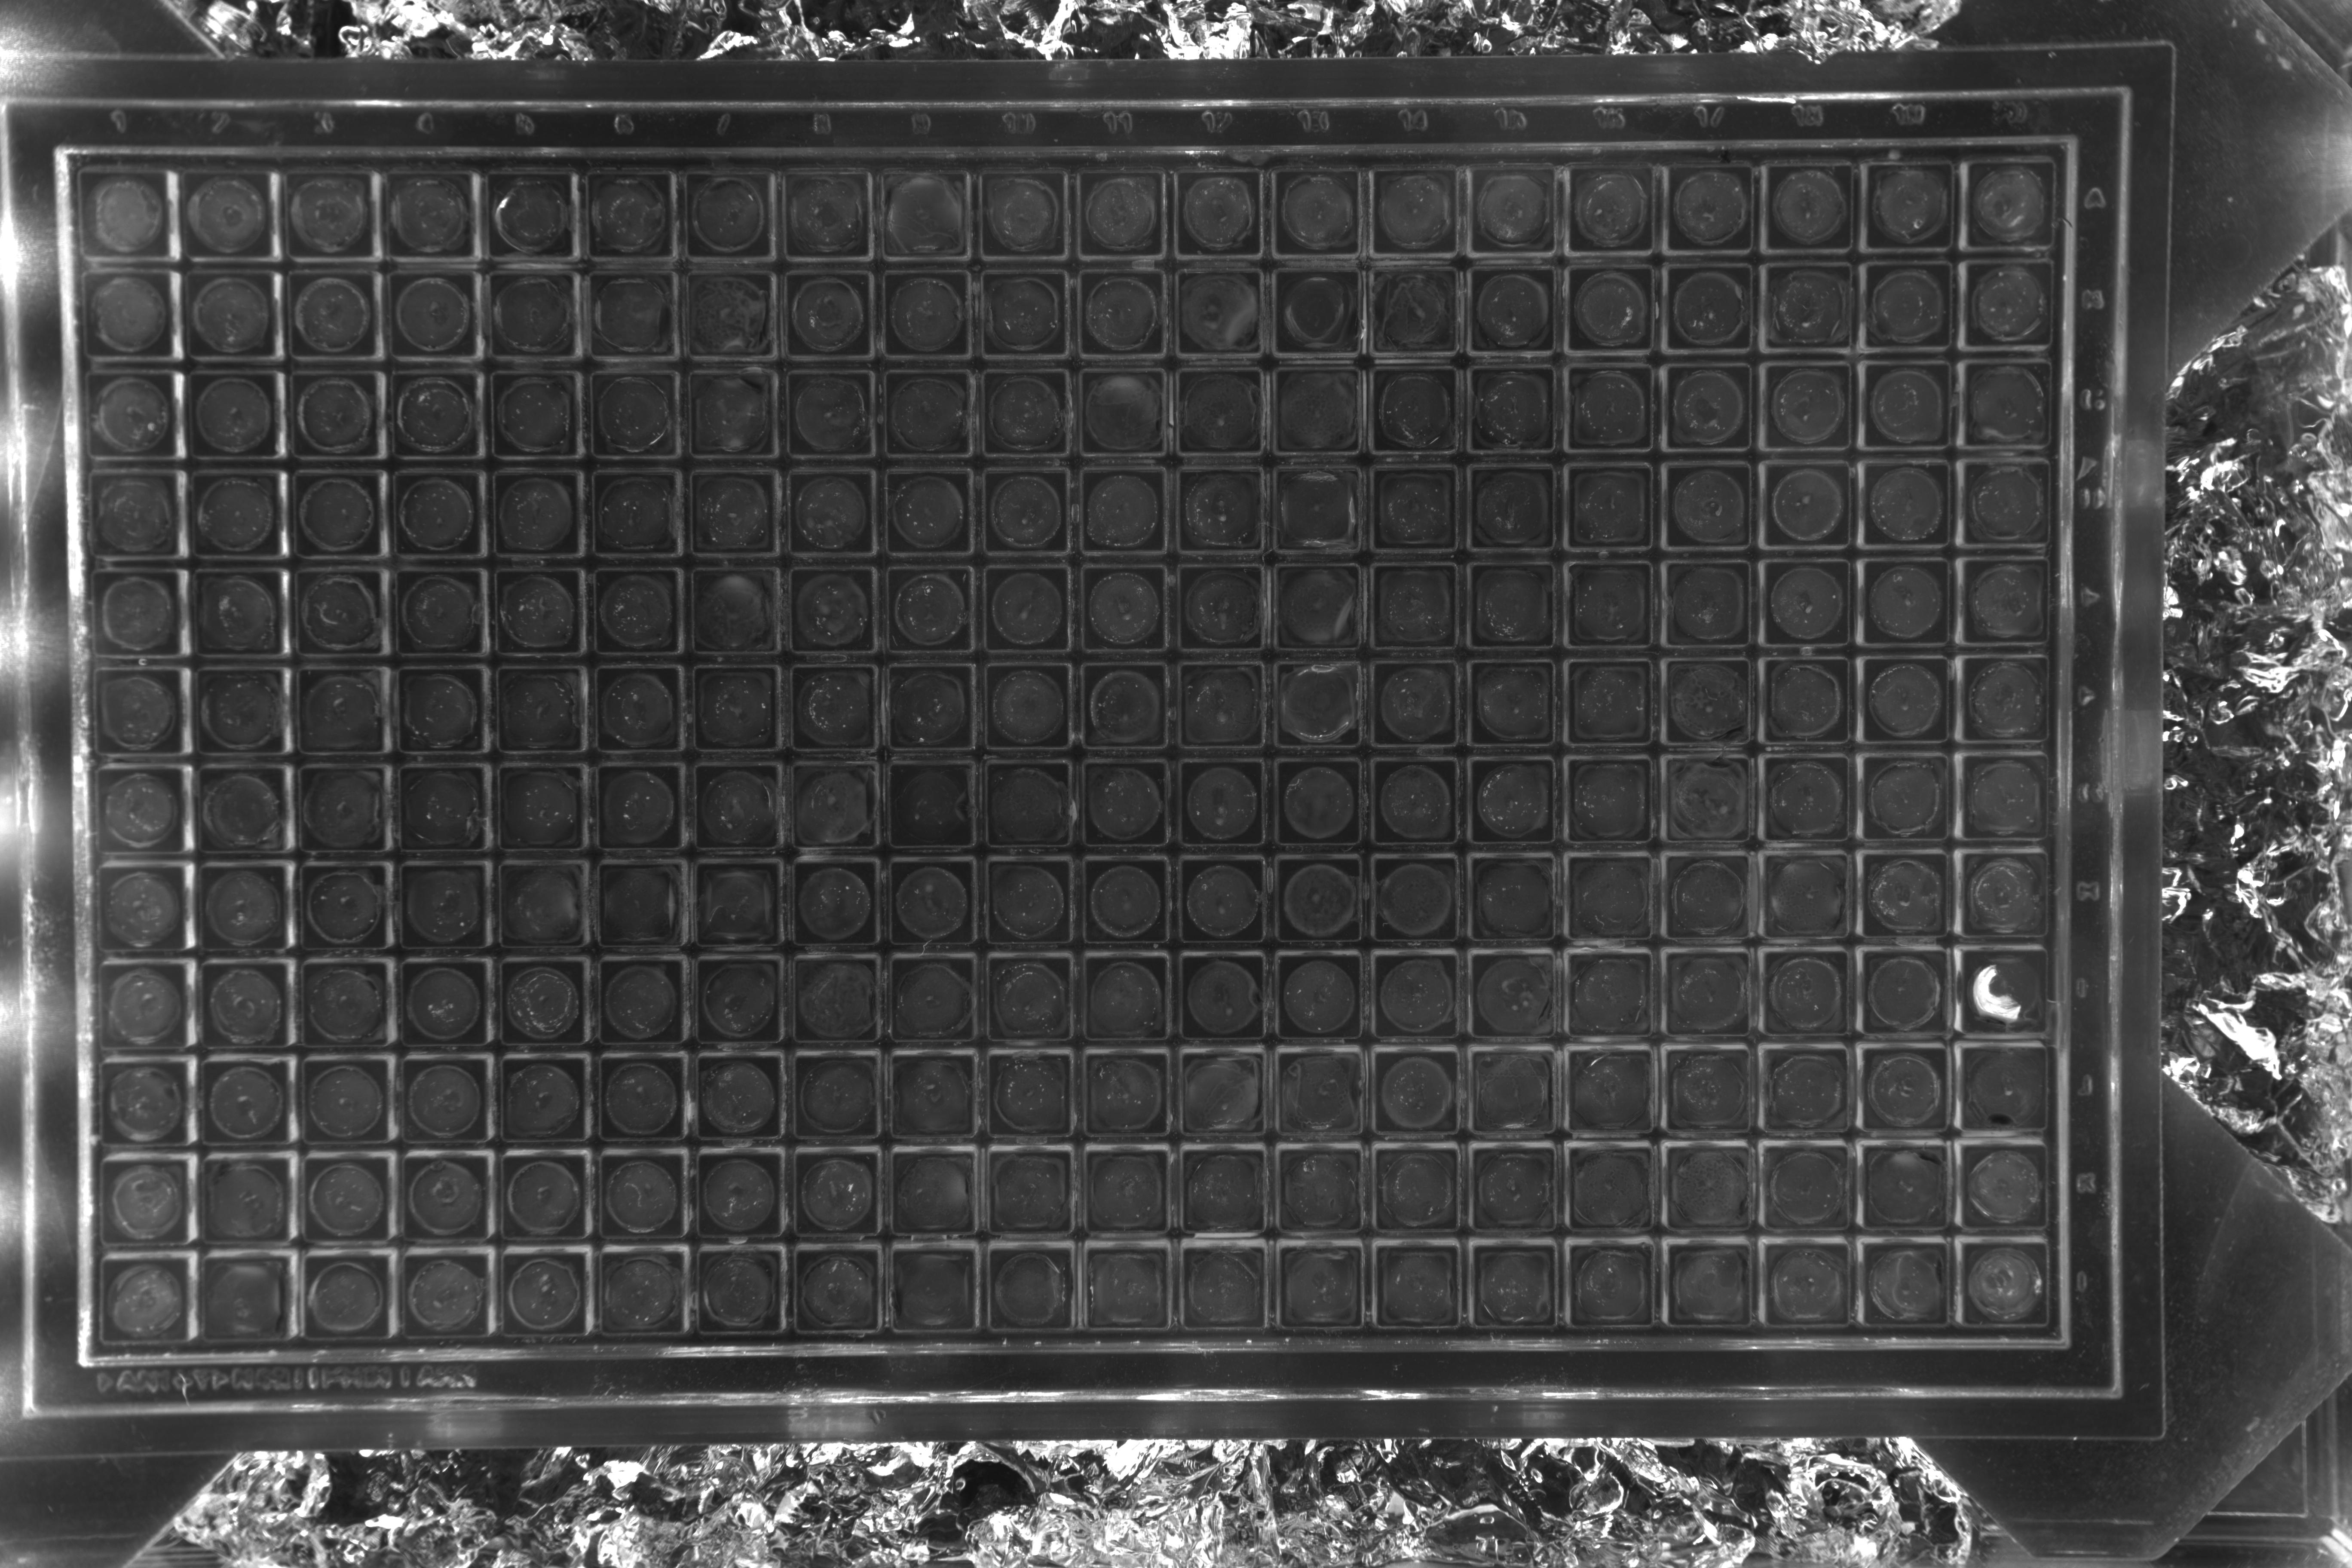WM_well: (497, 556, 586, 644), (303, 651, 390, 738), (499, 458, 586, 546), (693, 268, 780, 355), (784, 1239, 871, 1326), (882, 1337, 969, 1424), (885, 947, 973, 1034), (887, 752, 975, 840), (983, 560, 1071, 647), (983, 269, 1071, 357), (1080, 560, 1167, 647), (1176, 269, 1263, 357), (1176, 1143, 1263, 1230), (1176, 656, 1263, 744), (1368, 367, 1456, 455), (1370, 754, 1458, 842), (1466, 560, 1554, 647), (1563, 366, 1650, 453), (1661, 366, 1748, 453), (1662, 656, 1750, 744), (1662, 754, 1750, 842), (1762, 950, 1850, 1038), (1764, 1150, 1851, 1237), (1958, 658, 2046, 745)
